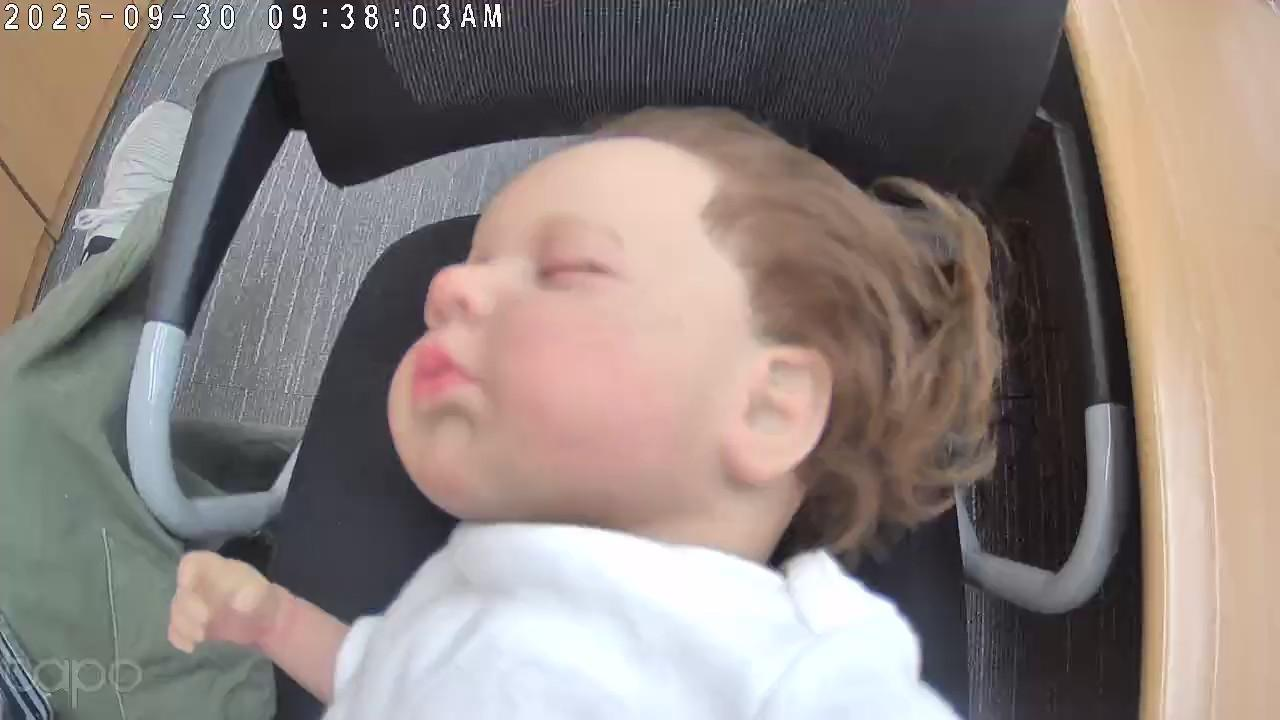hand: (168, 548, 279, 653)
